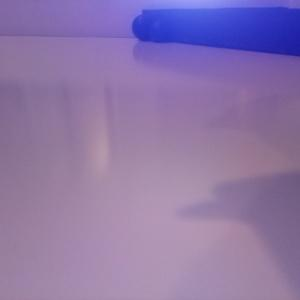dead_ball: (131, 13, 155, 40), (148, 19, 169, 43)
